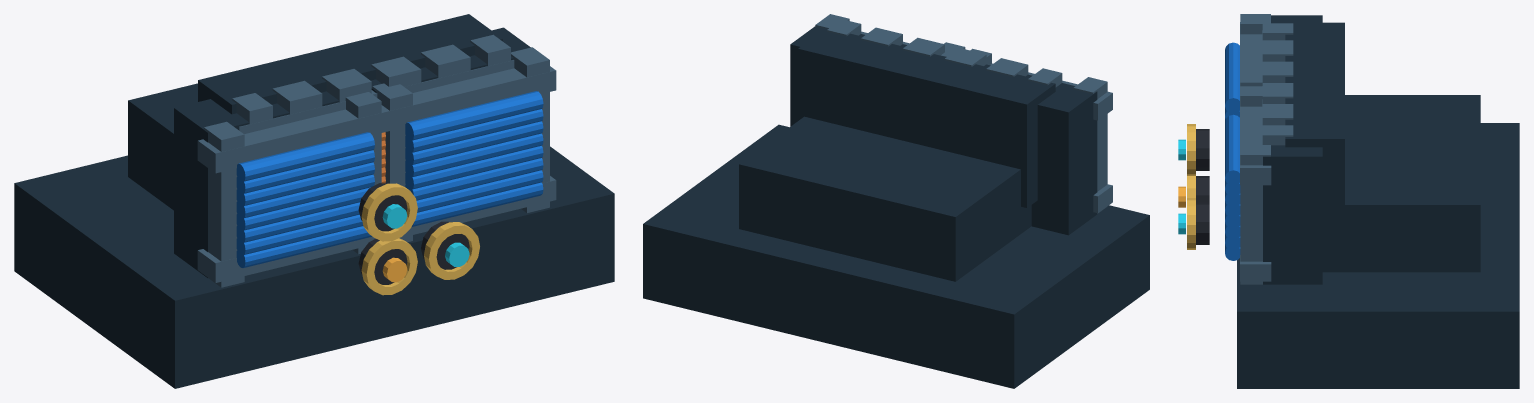
Rendered from 19_L82_DifferentialLCFilterModule.fbx.
The picture shows the model from 3 angles, left to right: view 1: azimuth 30°, elevation 25°; view 2: azimuth 150°, elevation 25°; view 3: azimuth 270°, elevation 25°; orthographic projection. The views are drawn at different scales.
Visible parts, largest first — view 1: DifferentialLCFilterModule, DifferentialLCFilterModule_Part_0113, DifferentialLCFilterModule_Part_0114, DifferentialLCFilterModule_Part_0282, DifferentialLCFilterModule_Part_0338, DifferentialLCFilterModule_Part_0226, DifferentialLCFilterModule_Part_0170, DifferentialLCFilterModule_Part_0166, DifferentialLCFilterModule_Part_0391, DifferentialLCFilterModule_Part_0167, DifferentialLCFilterModule_Part_0335, DifferentialLCFilterModule_Part_0279 (+6 smaller); view 2: DifferentialLCFilterModule, DifferentialLCFilterModule_Part_0113, DifferentialLCFilterModule_Part_0114, DifferentialLCFilterModule_Part_0170, DifferentialLCFilterModule_Part_0282, DifferentialLCFilterModule_Part_0338, DifferentialLCFilterModule_Part_0226, DifferentialLCFilterModule_Part_0166; view 3: DifferentialLCFilterModule, DifferentialLCFilterModule_Part_0113, DifferentialLCFilterModule_Part_0338, DifferentialLCFilterModule_Part_0114, DifferentialLCFilterModule_Part_0282, DifferentialLCFilterModule_Part_0226, DifferentialLCFilterModule_Part_0170, DifferentialLCFilterModule_Part_0391, DifferentialLCFilterModule_Part_0166, DifferentialLCFilterModule_Part_0222, DifferentialLCFilterModule_Part_0223, DifferentialLCFilterModule_Part_0334 (+4 smaller).
Part boxes in pixels (x1,y1,x2,y2): DifferentialLCFilterModule: [14, 27, 614, 388]; DifferentialLCFilterModule_Part_0113: [128, 83, 197, 210]; DifferentialLCFilterModule_Part_0114: [198, 62, 297, 114]; DifferentialLCFilterModule_Part_0282: [347, 26, 446, 68]; DifferentialLCFilterModule_Part_0338: [396, 14, 502, 56]; DifferentialLCFilterModule_Part_0226: [299, 38, 396, 80]; DifferentialLCFilterModule_Part_0170: [256, 50, 345, 92]; DifferentialLCFilterModule_Part_0166: [232, 93, 272, 124]; DifferentialLCFilterModule_Part_0391: [470, 34, 510, 66]; DifferentialLCFilterModule_Part_0167: [272, 83, 312, 114]; DifferentialLCFilterModule_Part_0335: [421, 47, 461, 78]; DifferentialLCFilterModule_Part_0279: [371, 59, 411, 86]; DifferentialLCFilterModule: [643, 14, 1149, 388]; DifferentialLCFilterModule_Part_0113: [739, 116, 1031, 281]; DifferentialLCFilterModule_Part_0114: [965, 71, 1055, 207]; DifferentialLCFilterModule_Part_0170: [923, 64, 1009, 160]; DifferentialLCFilterModule_Part_0282: [840, 44, 925, 140]; DifferentialLCFilterModule_Part_0338: [798, 28, 884, 129]; DifferentialLCFilterModule_Part_0226: [882, 51, 967, 145]; DifferentialLCFilterModule_Part_0166: [1028, 68, 1062, 87]; DifferentialLCFilterModule: [1178, 14, 1519, 388]; DifferentialLCFilterModule_Part_0113: [1322, 95, 1480, 272]; DifferentialLCFilterModule_Part_0338: [1285, 107, 1344, 246]; DifferentialLCFilterModule_Part_0114: [1285, 22, 1344, 53]; DifferentialLCFilterModule_Part_0282: [1285, 86, 1344, 117]; DifferentialLCFilterModule_Part_0226: [1285, 65, 1344, 96]; DifferentialLCFilterModule_Part_0170: [1285, 44, 1344, 75]; DifferentialLCFilterModule_Part_0391: [1262, 125, 1293, 145]; DifferentialLCFilterModule_Part_0166: [1262, 23, 1293, 40]; DifferentialLCFilterModule_Part_0222: [1262, 44, 1293, 61]; DifferentialLCFilterModule_Part_0223: [1262, 61, 1293, 71]; DifferentialLCFilterModule_Part_0334: [1262, 90, 1293, 103].
Size of the model in its own units: 120 by 64 by 91.8.
